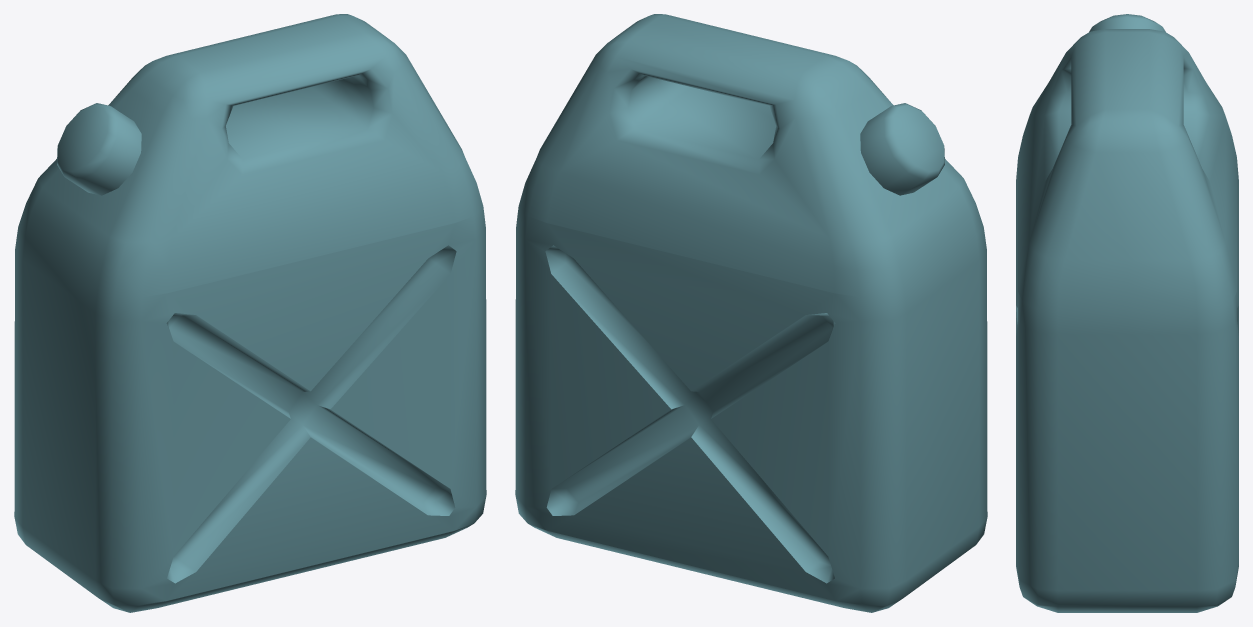
File: GB_097_jerry_can.glb
3 views of the same model, side by side, from view 1: azimuth 30°, elevation 25°; view 2: azimuth 150°, elevation 25°; view 3: azimuth 270°, elevation 25° (orthographic). The views are drawn at different scales.
Parts seen in each view (by area): view 1: jerry_can, jerry_can_nozzle; view 2: jerry_can, jerry_can_nozzle; view 3: jerry_can, jerry_can_nozzle.
Boxes of the visible parts, x1,y1,x2,y2 form: jerry_can: [14, 14, 486, 612]; jerry_can_nozzle: [57, 103, 141, 195]; jerry_can: [515, 14, 987, 612]; jerry_can_nozzle: [860, 103, 944, 195]; jerry_can: [1016, 29, 1238, 612]; jerry_can_nozzle: [1089, 14, 1165, 31].
Size of the model in its own units: 0.75 by 0.9249 by 0.3932.
